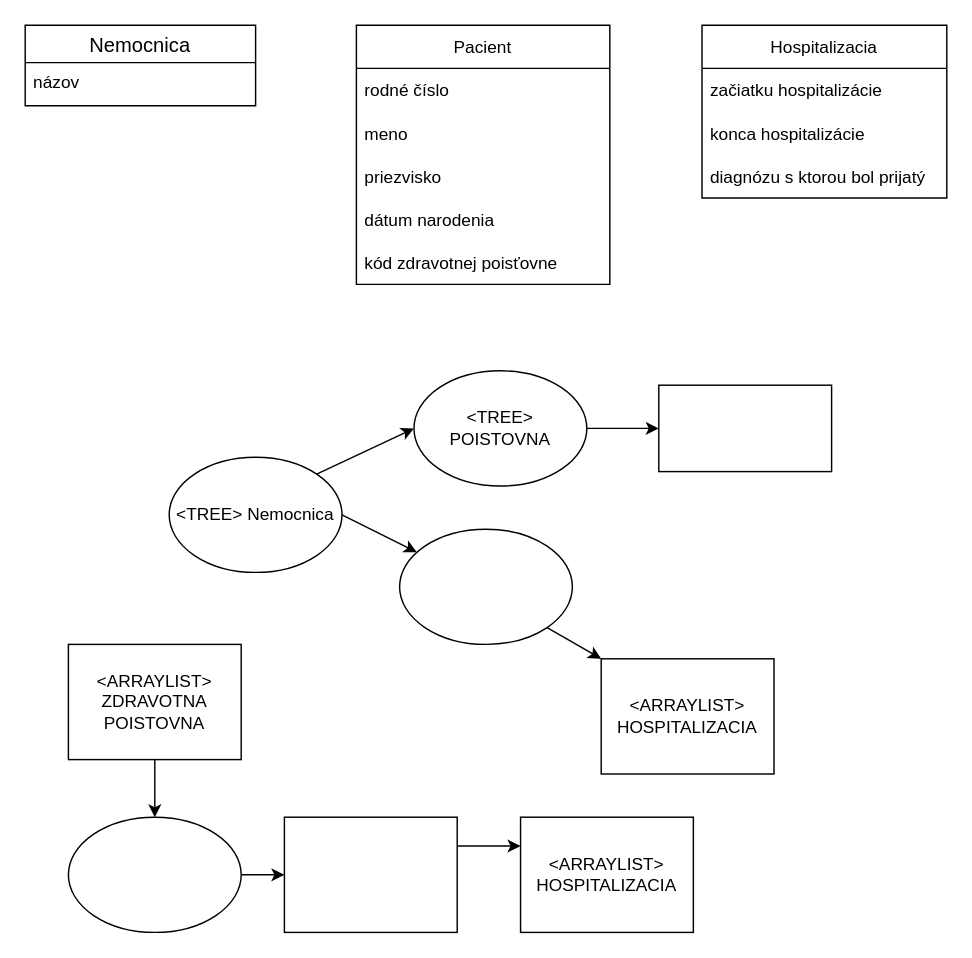
Some shapes in this 972 by 958 pixel diagram are drawn without their labels. The centre of each missing label's shape, as x and y in pixels:
"<ARRAYLIST> MESIAC" goes at (x=370, y=874).
"<ARRAYLIST> PACIENTI" goes at (x=744, y=428).
"<TREE> ROK" goes at (x=154, y=874).
"<TREE>pacient" goes at (x=485, y=586).
